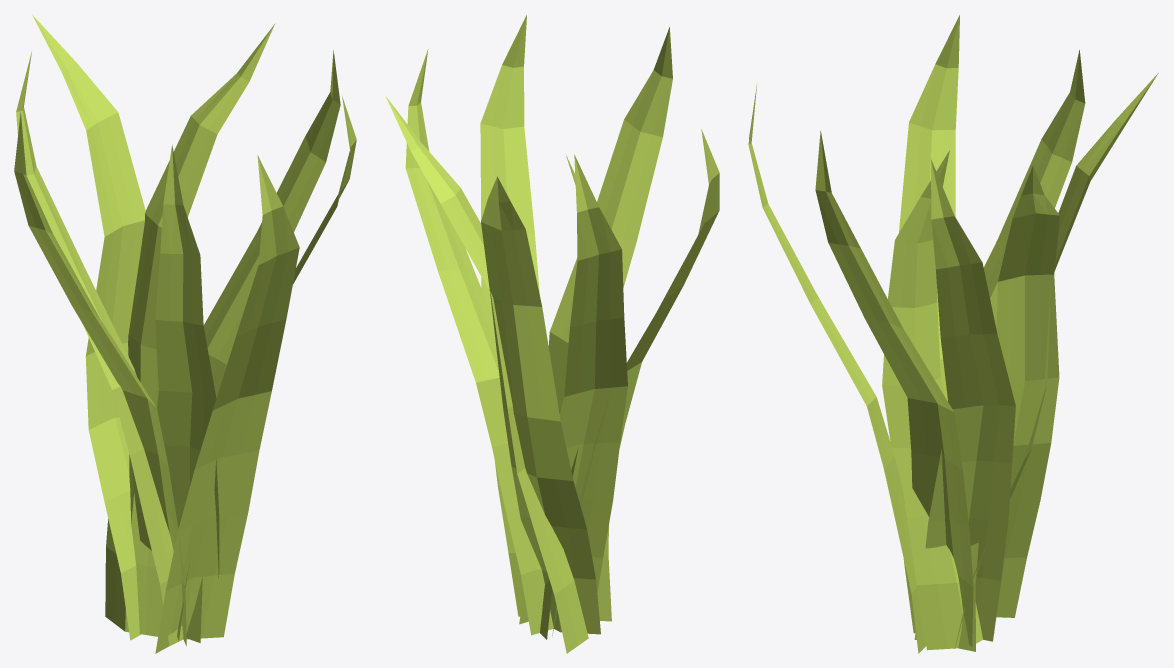
The model's file is grass.fbx.
3 renders of one model, left to right at view 1: azimuth 30°, elevation 25°; view 2: azimuth 150°, elevation 25°; view 3: azimuth 270°, elevation 25°, orthographic. The views are drawn at different scales.
Parts seen in each view (by area): view 1: Plane.001; view 2: Plane.001; view 3: Plane.001.
Part boxes in pixels (x1,y1,x2,y2): Plane.001: (14, 14, 356, 653); Plane.001: (385, 15, 719, 653); Plane.001: (748, 15, 1158, 653).
Bounding box in the file's own units: 107 × 183 × 122.
